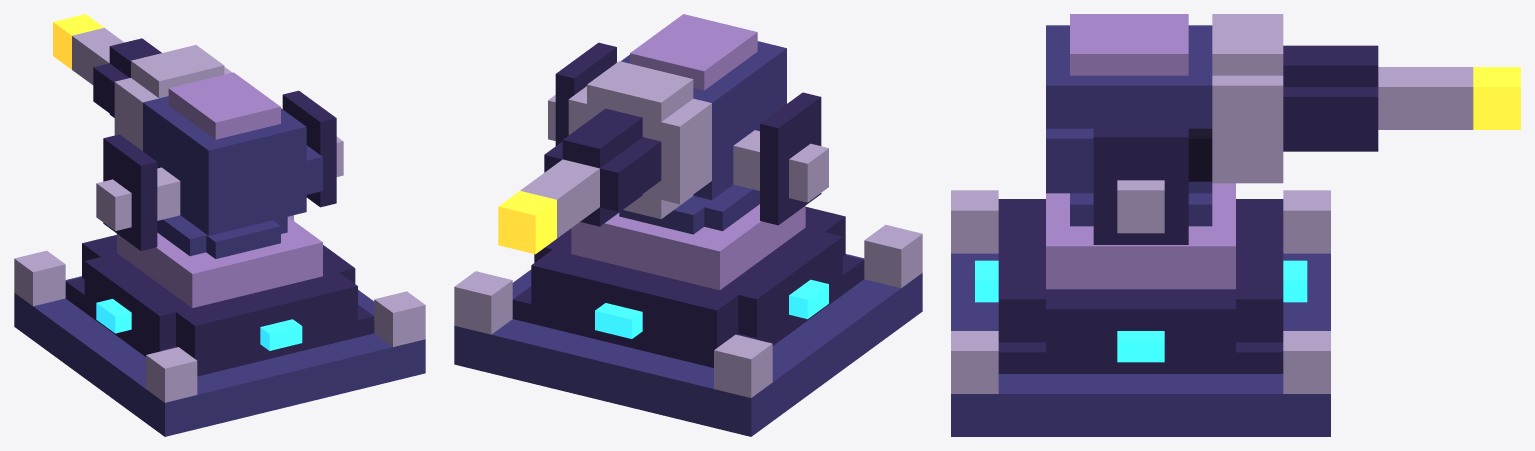
The model's file is mining-laser.sm.glb.
3 views of the same model, side by side, from view 1: azimuth 30°, elevation 25°; view 2: azimuth 150°, elevation 25°; view 3: azimuth 270°, elevation 25° (orthographic). The views are drawn at different scales.
Parts seen in each view (by area): view 1: mining-laser.sm; view 2: mining-laser.sm; view 3: mining-laser.sm.
Boxes of the visible parts, box(x1,y1,x2,y2) form: mining-laser.sm: box(14, 14, 425, 436); mining-laser.sm: box(454, 14, 922, 436); mining-laser.sm: box(951, 14, 1520, 436).
Bounding box in the file's own units: 1 × 0.9375 × 1.5.
